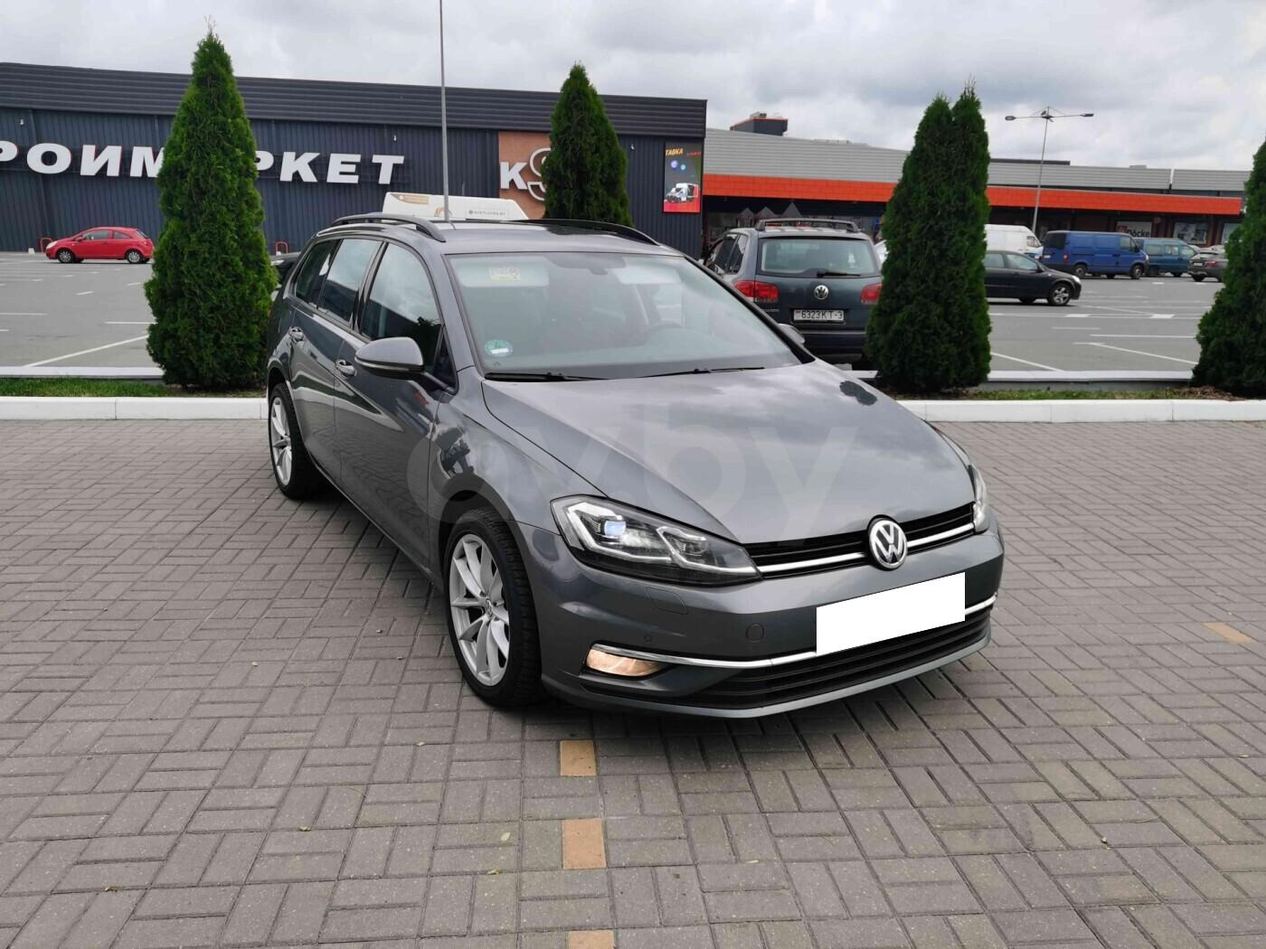Golf_2017-2021: (260, 210, 1012, 727)
